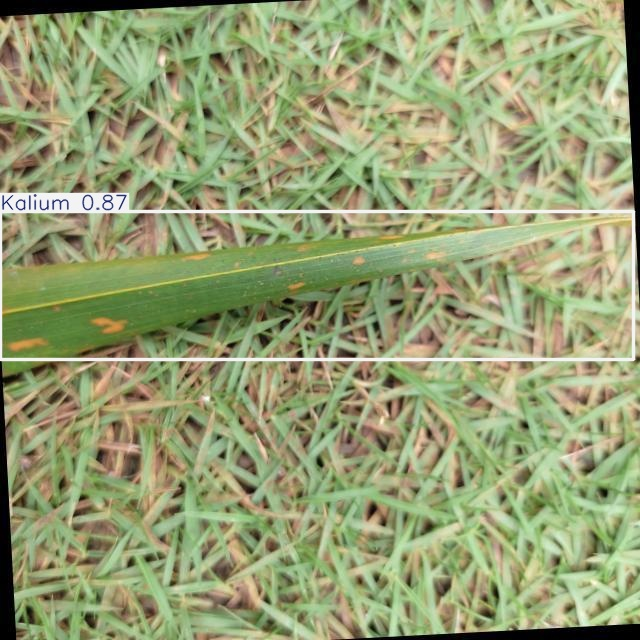Kalium: (0, 212, 634, 359)
